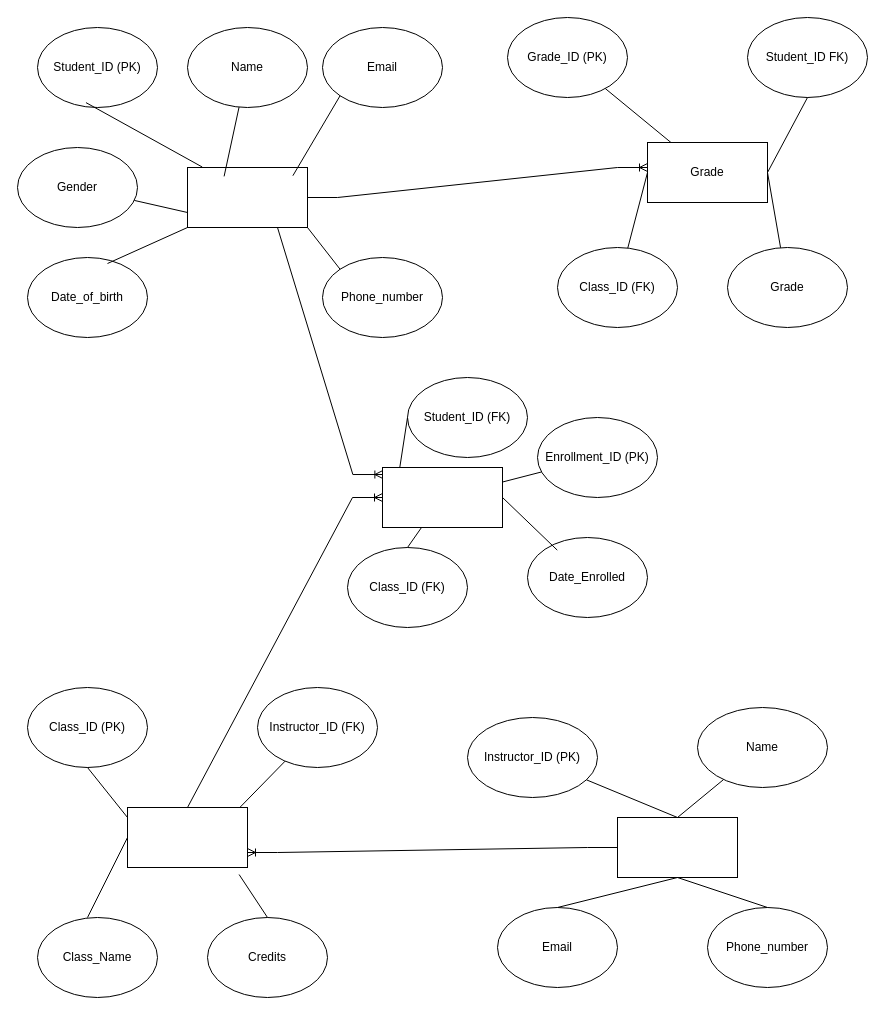
Image size: 885x1015. Some labels were removed from this diagram. The box of each missing label's shape, as (x1, y1, x2, y2) in pixels:
Class: (126, 806, 248, 868)
Enrollment: (382, 466, 502, 528)
Instructor: (616, 816, 738, 878)
Student: (186, 166, 308, 228)
